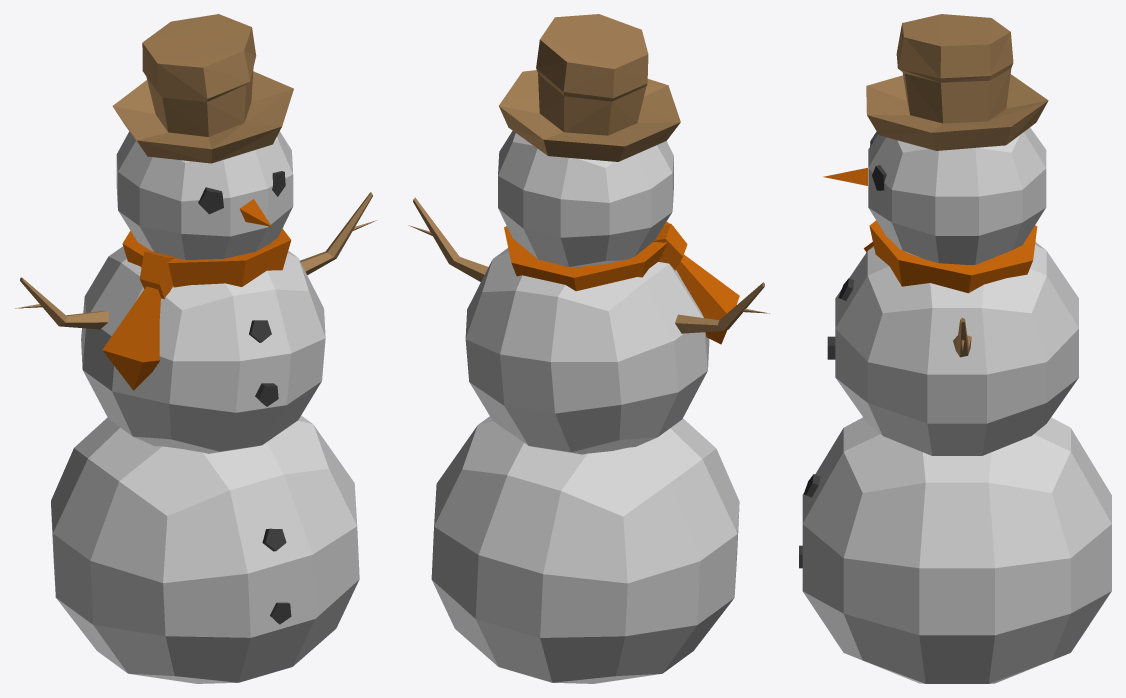
Rendered from snowman_01.fbx.
3 renders of one model, left to right at view 1: azimuth 30°, elevation 25°; view 2: azimuth 150°, elevation 25°; view 3: azimuth 270°, elevation 25°, orthographic.
Visible parts, largest first — view 1: snowman_01; view 2: snowman_01; view 3: snowman_01.
Boxes of the visible parts, bbox=[...] form: snowman_01: bbox=[15, 14, 377, 683]; snowman_01: bbox=[408, 14, 769, 683]; snowman_01: bbox=[799, 14, 1111, 683].
Size of the model in its own units: 159 by 263 by 116.
